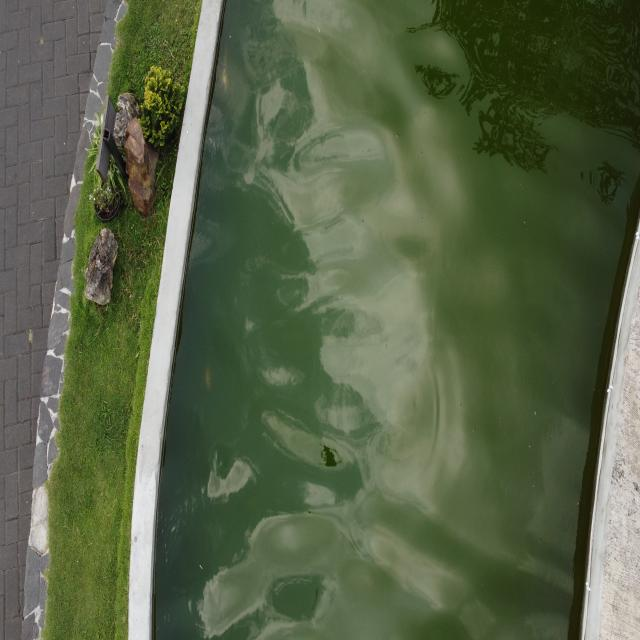Ponds: (129, 1, 640, 638)
